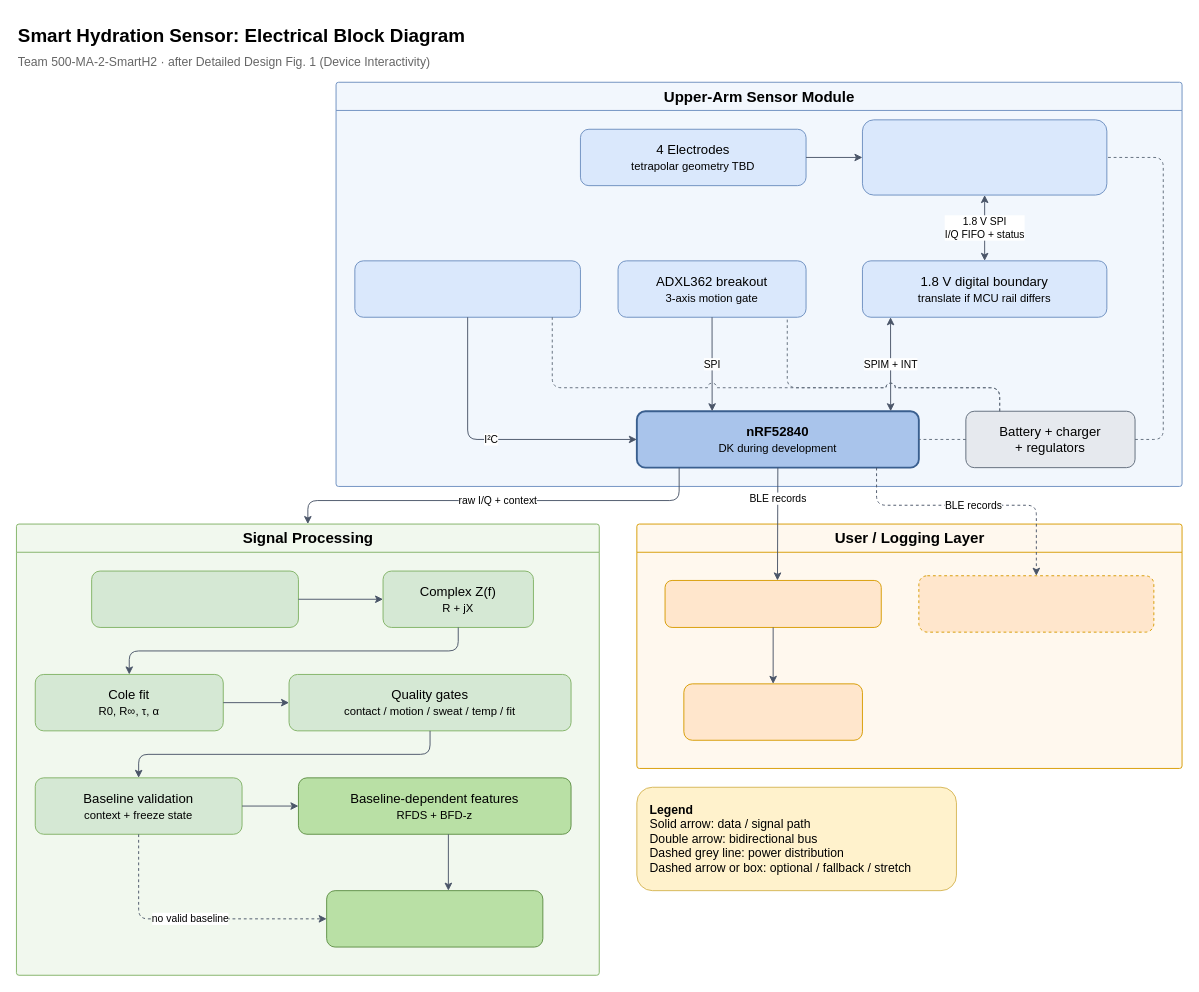
Some shapes in this 1199 by 992 pixel diagram are drawn without their labels. The centre of each missing label's shape, as x and y in pixels:
BLE phone / test logger: the point at 772,603
Calibration Gain / phase correction: the point at 194,598
Garmin watch app / data field stretch goal only: the point at 1036,603
MAX30009 BioZ AFE Current drive + I/Q receive FIFO + lead/contact checks: the point at 984,157
MCP9808 breakouts Fixture + ambient reference: the point at 467,288
Result assembly quality + FTI eligibility: the point at 434,918
Validation analysis Python / MATLAB: the point at 772,711
